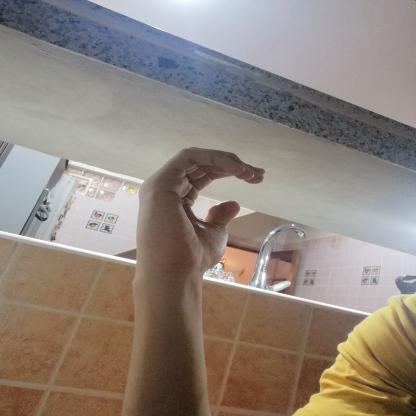JEEM: (118, 135, 283, 291)
